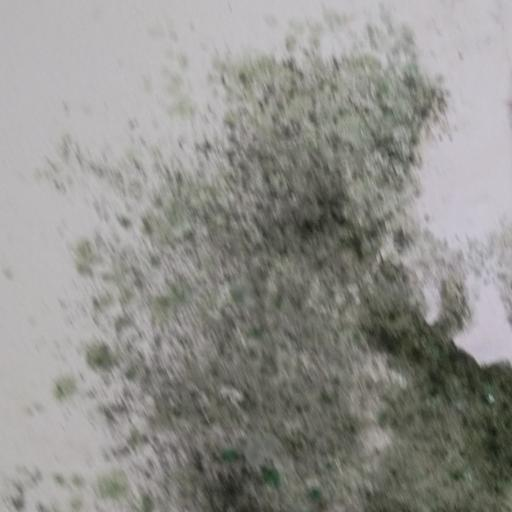algae: (68, 27, 512, 512)
